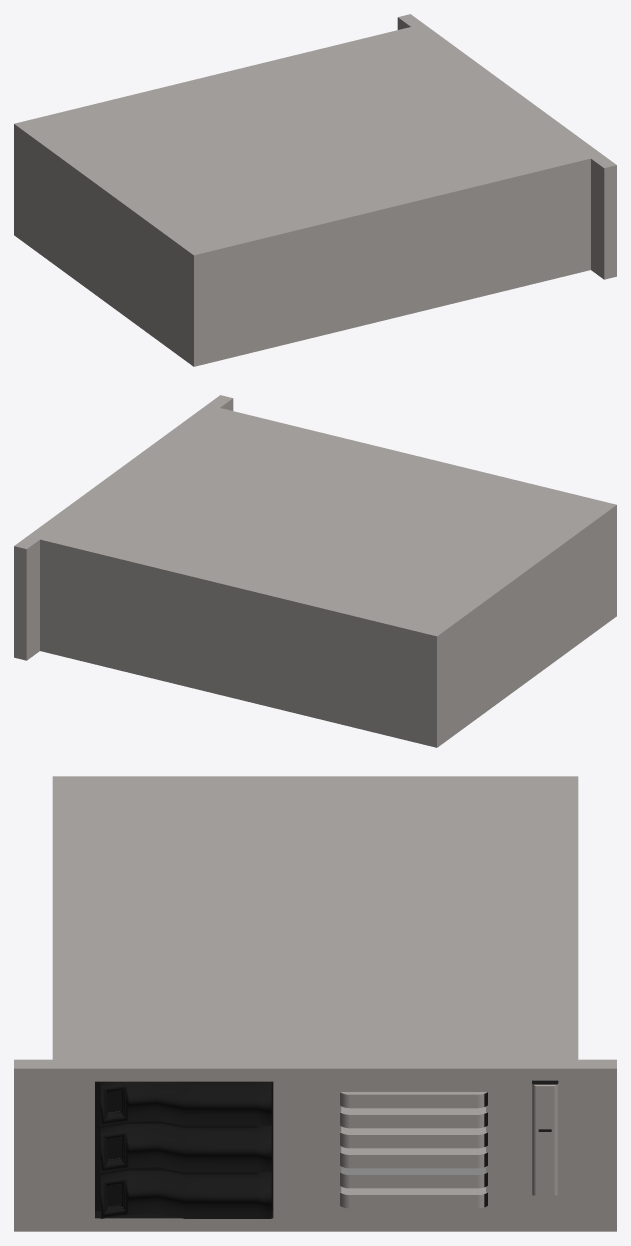
The model's file is server.glb.
The picture shows the model from 3 angles, top to bottom: view 1: azimuth 30°, elevation 25°; view 2: azimuth 150°, elevation 25°; view 3: azimuth 270°, elevation 25°; orthographic projection. The views are drawn at different scales.
Visible parts, largest first — view 1: Cube.003; view 2: Cube.003; view 3: Cube.003.
Boxes of the visible parts, left/top/right/bottom form: Cube.003: left=14, top=14, right=616, bottom=366; Cube.003: left=14, top=395, right=616, bottom=747; Cube.003: left=14, top=776, right=616, bottom=1231.
Bounding box in the file's own units: 0.5617 × 0.1439 × 0.4828.
Materials: 1 (1 with a texture image).
